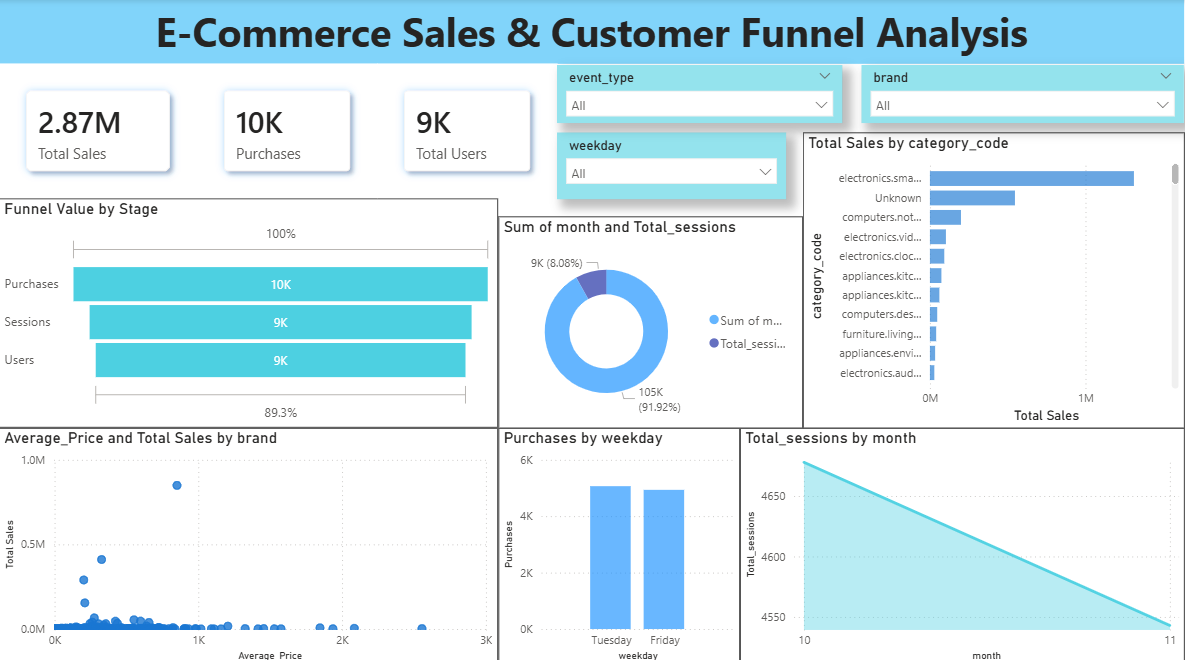

The page's visual inventory and layout, read from the dashboard file:
{"tool":"powerbi","page":{"name":"Page 1","canvas":[1280,720],"ordinal":0},"visuals":[{"type":"funnel","fields":{"Category":["FunnelTable.Stage"],"Y":["FunnelTable.Funnel Value"]},"box":[0,215.4,538.6,247.6],"z":0},{"type":"scatterChart","fields":{"X":["cleaned_marketing_funnel.Average_Price"],"Y":["cleaned_marketing_funnel.Total_Sales"],"Category":["cleaned_marketing_funnel.brand"]},"box":[0,463,538.6,257],"z":1000},{"type":"lineChart","fields":{"Y":["cleaned_marketing_funnel.Total_sessions"],"Category":["cleaned_marketing_funnel.month"]},"box":[799.4,463,480,257],"z":2000},{"type":"columnChart","fields":{"Category":["cleaned_marketing_funnel.weekday"],"Y":["cleaned_marketing_funnel.Purchases"]},"box":[538.6,463,260.8,257],"z":3000},{"type":"donutChart","fields":{"Y":["Sum(cleaned_marketing_funnel.month)","cleaned_marketing_funnel.Total_sessions"]},"box":[538.6,234.3,328.8,228.7],"z":4000},{"type":"clusteredBarChart","fields":{"Category":["cleaned_marketing_funnel.category_code"],"Y":["cleaned_marketing_funnel.Total_Sales"]},"box":[867.4,143.6,412,319.4],"z":5000},{"type":"textbox","box":[0,0,1279.4,69.9],"z":6000},{"type":"cardVisual","fields":{"Data":["cleaned_marketing_funnel.Total_Sales"]},"box":[0,69.9,213.5,145.5],"z":7000},{"type":"cardVisual","fields":{"Data":["cleaned_marketing_funnel.Purchases"]},"box":[213.5,69.9,194.6,145.5],"z":8000},{"type":"cardVisual","fields":{"Data":["cleaned_marketing_funnel.Total_Users"]},"box":[408.2,69.9,194.6,145.5],"z":9000},{"type":"slicer","fields":{"Values":["cleaned_marketing_funnel.event_type"]},"box":[602.8,71.8,308,62.4],"z":10000},{"type":"slicer","fields":{"Values":["cleaned_marketing_funnel.brand"]},"box":[931.7,71.8,347.7,62.4],"z":11000},{"type":"slicer","fields":{"Values":["cleaned_marketing_funnel.weekday"]},"box":[602.8,143.6,247.6,71.8],"z":12000}]}

Visuals, with their boxes in screenshot pixels (x1, y1, x2, y2), scaled from the page's 1280x720 canvas onto the 1185x660 screenshot:
funnel - FunnelTable.Stage x FunnelTable.Funnel Value: [x1=0, y1=197, x2=499, y2=424]
scatterChart - cleaned_marketing_funnel.Average_Price x cleaned_marketing_funnel.Total_Sales: [x1=0, y1=424, x2=499, y2=659]
lineChart - cleaned_marketing_funnel.Total_sessions x cleaned_marketing_funnel.month: [x1=740, y1=424, x2=1184, y2=659]
columnChart - cleaned_marketing_funnel.weekday x cleaned_marketing_funnel.Purchases: [x1=499, y1=424, x2=740, y2=659]
donutChart - Sum(cleaned_marketing_funnel.month) x cleaned_marketing_funnel.Total_sessions: [x1=499, y1=215, x2=803, y2=424]
clusteredBarChart - cleaned_marketing_funnel.category_code x cleaned_marketing_funnel.Total_Sales: [x1=803, y1=132, x2=1184, y2=424]
textbox: [x1=0, y1=0, x2=1184, y2=64]
cardVisual - cleaned_marketing_funnel.Total_Sales: [x1=0, y1=64, x2=198, y2=197]
cardVisual - cleaned_marketing_funnel.Purchases: [x1=198, y1=64, x2=378, y2=197]
cardVisual - cleaned_marketing_funnel.Total_Users: [x1=378, y1=64, x2=558, y2=197]
slicer - cleaned_marketing_funnel.event_type: [x1=558, y1=66, x2=843, y2=123]
slicer - cleaned_marketing_funnel.brand: [x1=863, y1=66, x2=1184, y2=123]
slicer - cleaned_marketing_funnel.weekday: [x1=558, y1=132, x2=787, y2=197]
